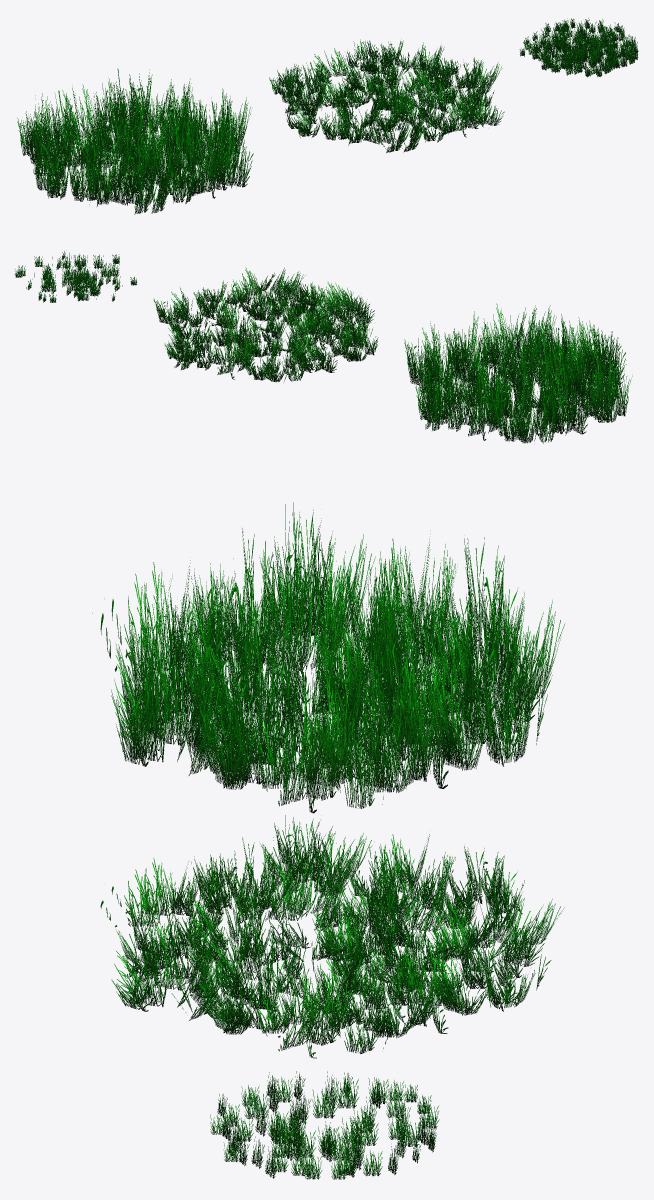
Rendered from glass.glb.
3 renders of one model, top to bottom at view 1: azimuth 30°, elevation 25°; view 2: azimuth 150°, elevation 25°; view 3: azimuth 270°, elevation 25°, orthographic. The views are drawn at different scales.
Parts seen in each view (by area): view 1: A03, A01, A02; view 2: A03, A01, A02; view 3: A03, A01, A02.
Part boxes in pixels (x1,y1,x2,y2): A03: [17, 69, 253, 214]; A01: [269, 39, 504, 152]; A02: [519, 18, 638, 77]; A03: [404, 303, 632, 443]; A01: [153, 267, 378, 382]; A02: [14, 251, 136, 302]; A03: [92, 502, 564, 813]; A01: [100, 815, 564, 1058]; A02: [210, 1071, 439, 1179].
Bounding box in the file's own units: 14.35 × 2.08 × 5.07.
Materials: 1 (1 with a texture image).
